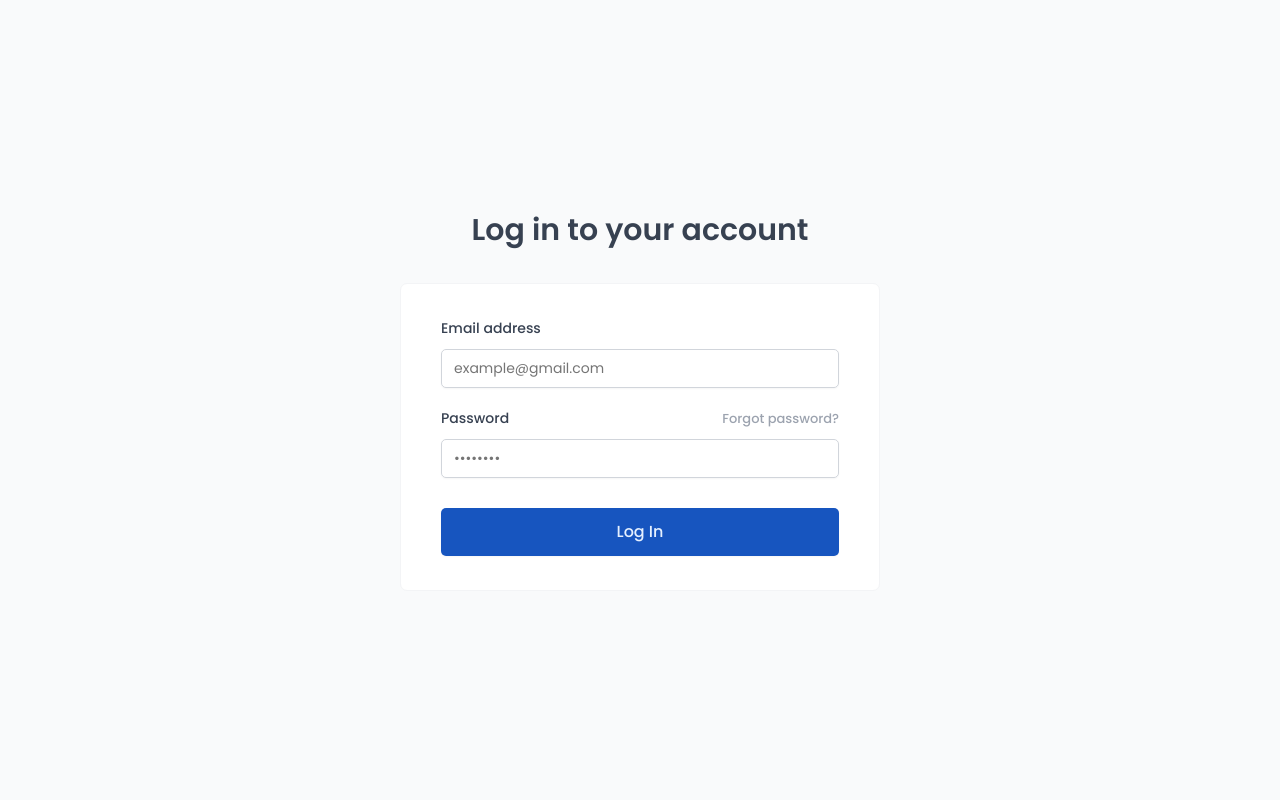
Test case: Login Logic and Forgot Password Flow › validating the forgot password form with the wrong email
Click the text "Forgot password?" at (781, 419), box [722,409,839,429]
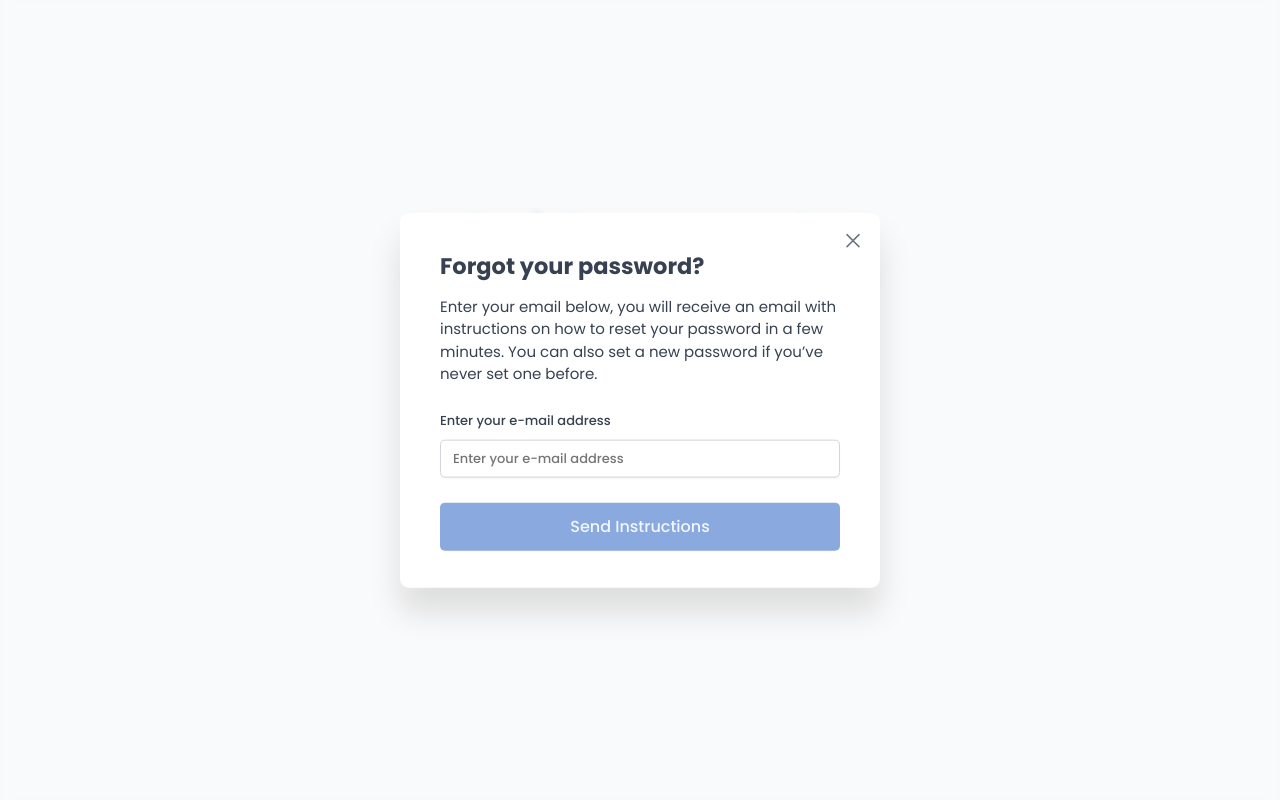
Type "user@example.com" into the field with id "email" at (640, 459), box [440,440,840,478]
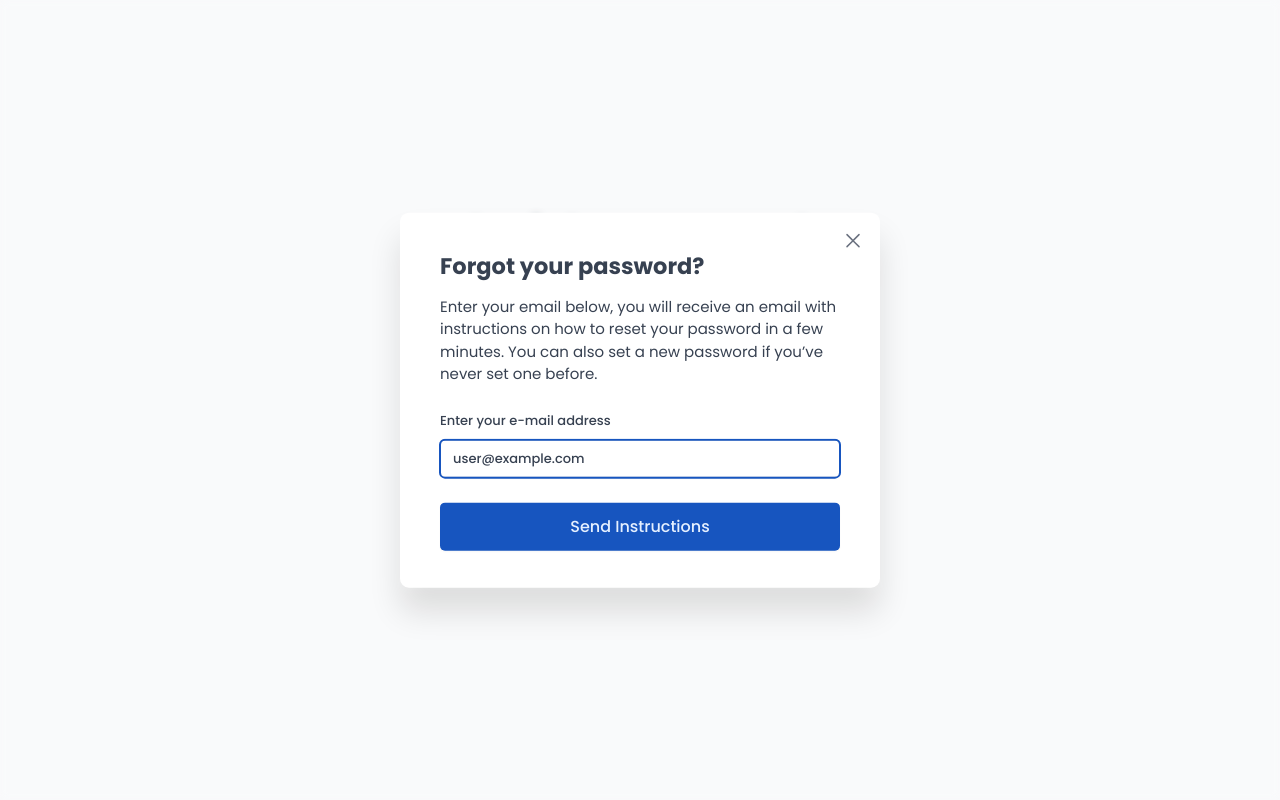
Click the button "Send Instructions" at (640, 526), box [440,502,840,550]
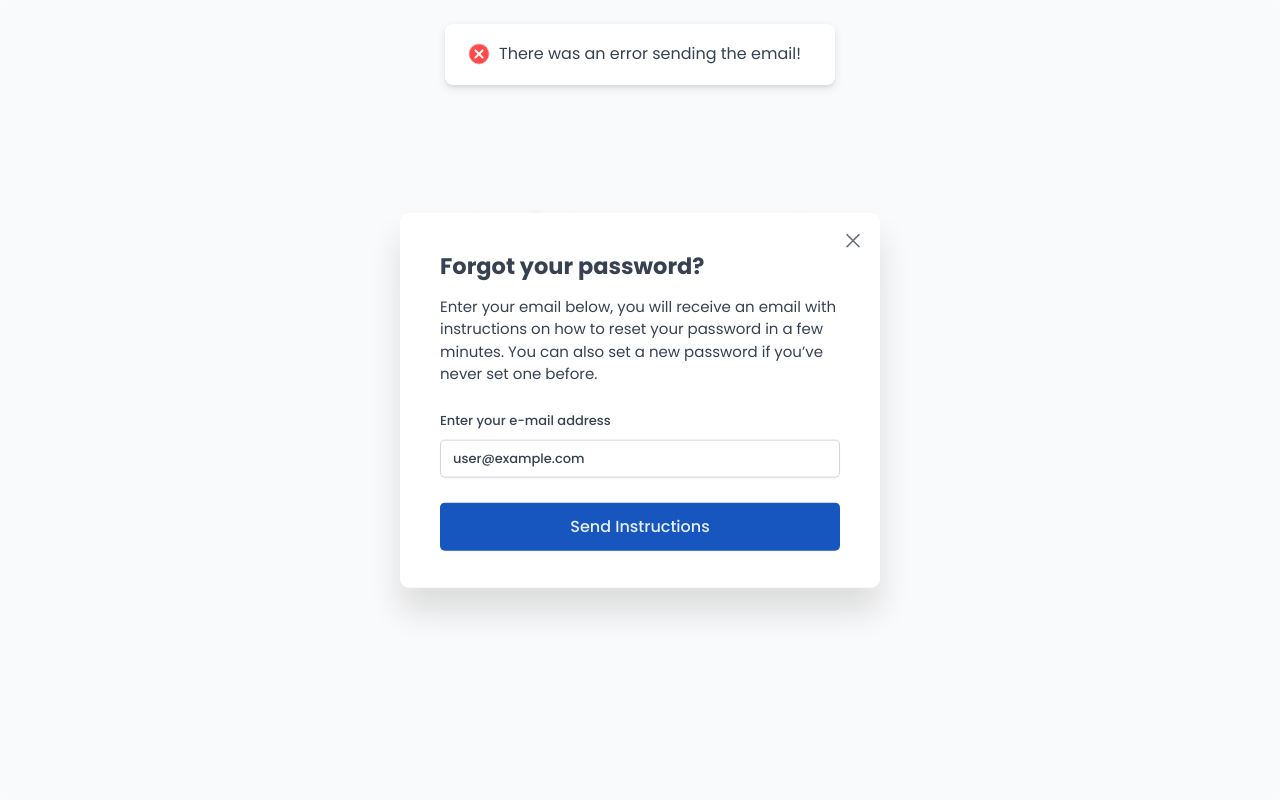
Now the text "There was an error sending the email!" is shown, box [499,44,801,65]
